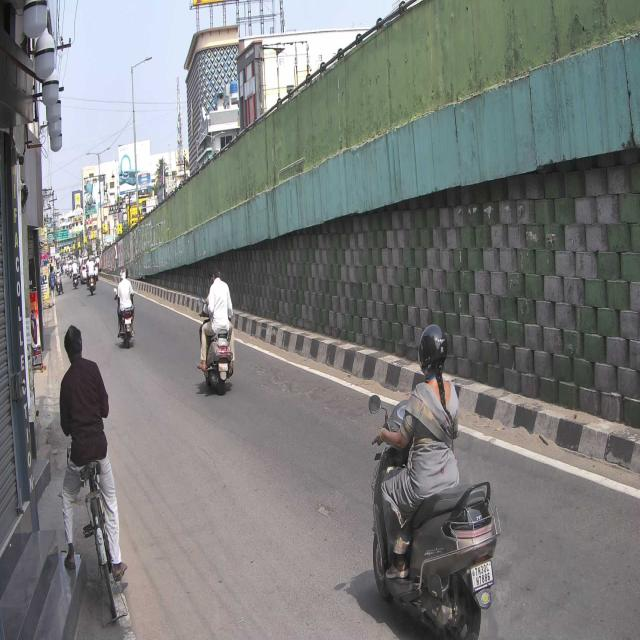single_rider: (368, 323, 500, 640)
